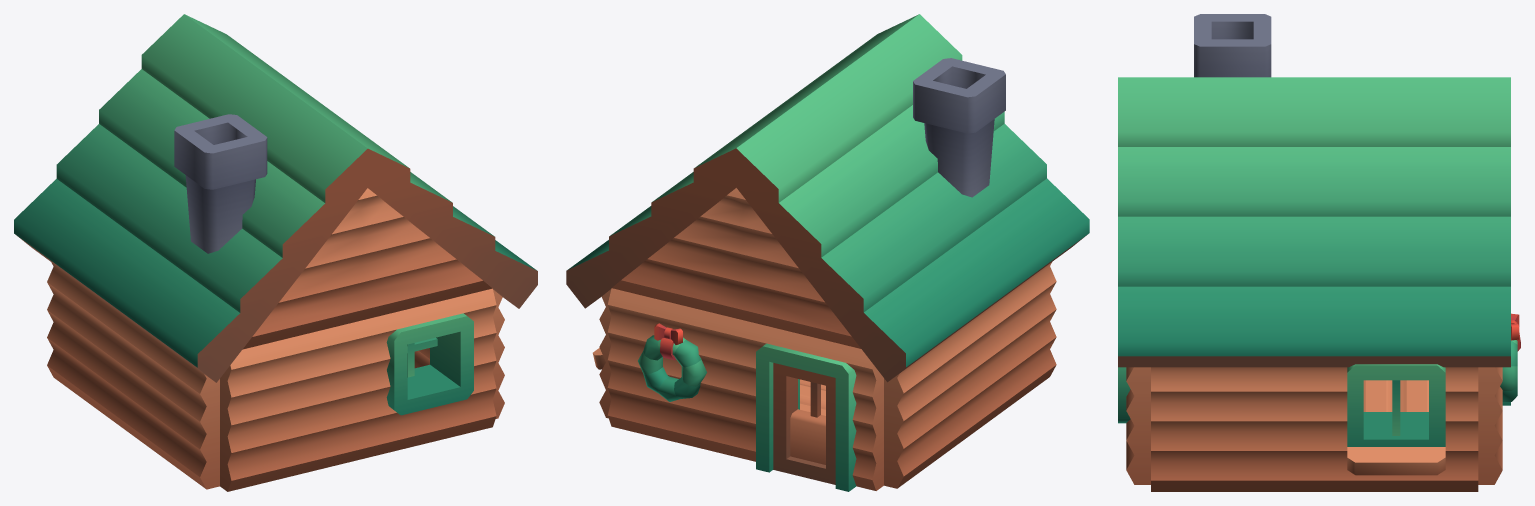
Rendered from casa_navidad.glb.
3 views of the same model, side by side, from view 1: azimuth 30°, elevation 25°; view 2: azimuth 150°, elevation 25°; view 3: azimuth 270°, elevation 25° (orthographic). The views are drawn at different scales.
Visible parts, largest first — view 1: cabin-roof-chimney, cabin-roof (×3), cabin-wall (×4), cabin-window-a, cabin-wall-roof (×2); view 2: cabin-roof (×3), cabin-roof-chimney, cabin-door-rotate, cabin-wall (×2), cabin-wall-wreath, cabin-wall-roof (×2), cabin-window-b; view 3: cabin-roof (×2), cabin-wall, cabin-window-b, cabin-roof-chimney, cabin-wall-wreath, cabin-window-a, floor-wood (×2).
Part boxes in pixels (bbox=[...]): cabin-roof-chimney: bbox=[90, 70, 367, 382]; cabin-roof (×3): bbox=[14, 14, 537, 313]; cabin-wall (×4): bbox=[47, 262, 504, 491]; cabin-window-a: bbox=[360, 288, 496, 459]; cabin-wall-roof (×2): bbox=[242, 188, 492, 349]; cabin-roof (×3): bbox=[566, 14, 1012, 382]; cabin-roof-chimney: bbox=[813, 14, 1089, 324]; cabin-door-rotate: bbox=[740, 320, 883, 491]; cabin-wall (×2): bbox=[884, 262, 1056, 488]; cabin-wall-wreath: bbox=[607, 288, 743, 458]; cabin-wall-roof (×2): bbox=[612, 188, 860, 348]; cabin-window-b: bbox=[592, 289, 611, 418]; cabin-roof (×2): bbox=[1118, 77, 1510, 367]; cabin-wall: bbox=[1151, 367, 1314, 491]; cabin-window-b: bbox=[1314, 364, 1478, 491]; cabin-roof-chimney: bbox=[1194, 14, 1271, 77]; cabin-wall-wreath: bbox=[1478, 313, 1520, 484]; cabin-window-a: bbox=[1118, 367, 1150, 484]; floor-wood (×2): bbox=[1363, 380, 1428, 411].
Bounding box in the file's own units: 2.63 × 2.28 × 2.46.
20 materials, 20 textured.
